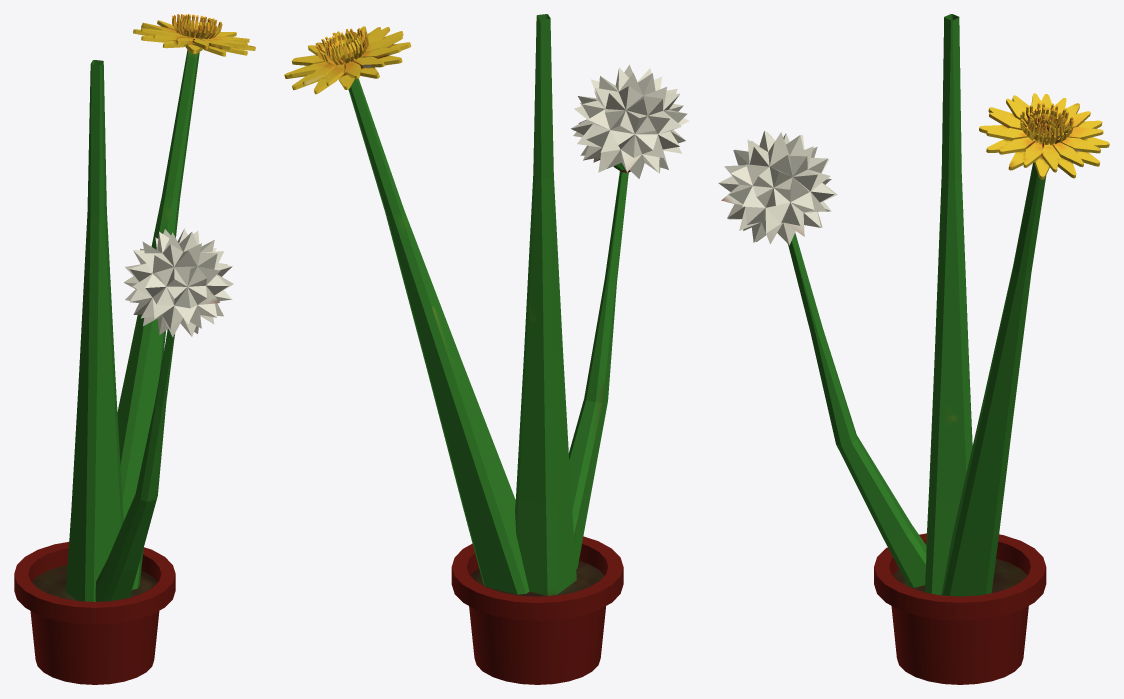
Rendered from Dandielion_lvl_3_headless.glb.
The picture shows the model from 3 angles, left to right: view 1: azimuth 30°, elevation 25°; view 2: azimuth 150°, elevation 25°; view 3: azimuth 270°, elevation 25°; orthographic projection. The views are drawn at different scales.
Visible parts, largest first — view 1: Dandelion_lvl_3_headless; view 2: Dandelion_lvl_3_headless; view 3: Dandelion_lvl_3_headless.
Part boxes in pixels (x1,y1,x2,y2): Dandelion_lvl_3_headless: [14, 14, 255, 684]; Dandelion_lvl_3_headless: [284, 14, 689, 684]; Dandelion_lvl_3_headless: [718, 14, 1109, 684].
Bounding box in the file's own units: 1.99 × 4.38 × 2.43.
1 material, 1 textured.
